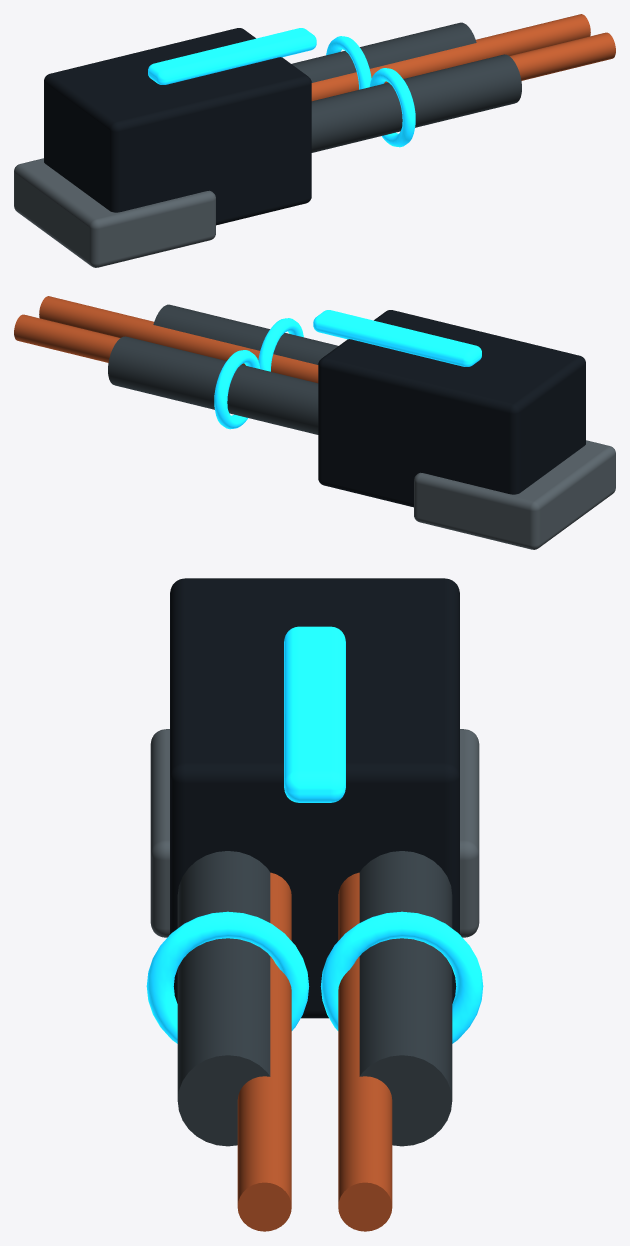
3 renders of one model, top to bottom at view 1: azimuth 30°, elevation 25°; view 2: azimuth 150°, elevation 25°; view 3: azimuth 270°, elevation 25°, orthographic. The views are drawn at different scales.
Size of the model in its own units: 6.5 by 1.7 by 1.74.
